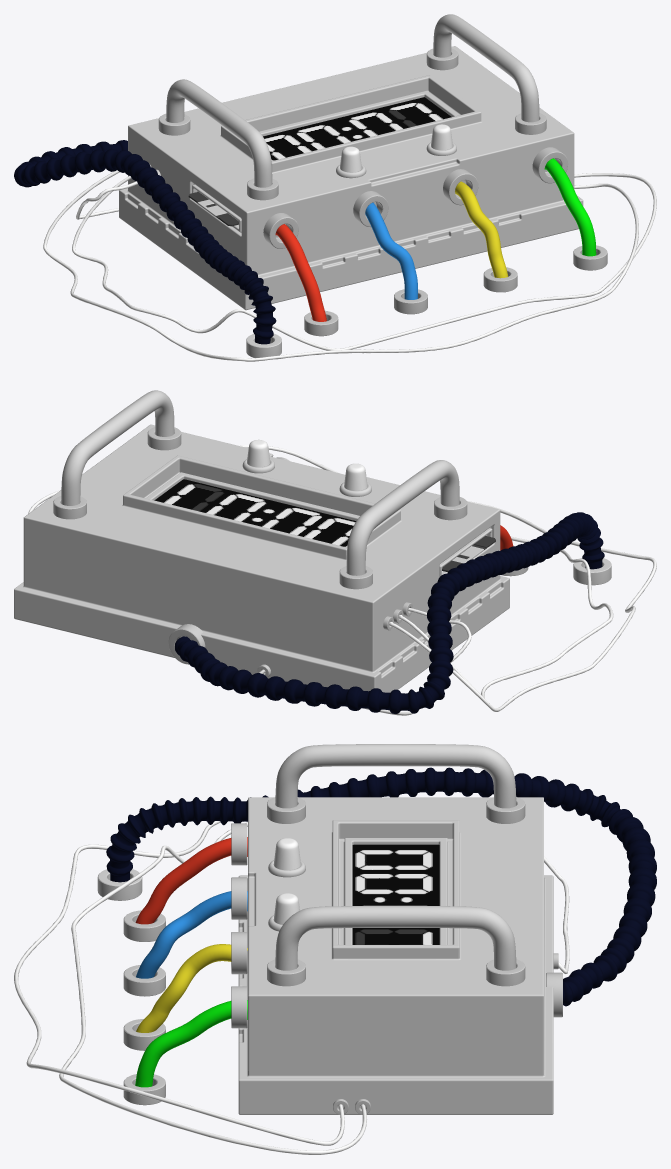
The picture shows the model from 3 angles, top to bottom: view 1: azimuth 30°, elevation 25°; view 2: azimuth 150°, elevation 25°; view 3: azimuth 270°, elevation 25°; orthographic projection. The views are drawn at different scales.
Parts seen in each view (by area): view 1: Main, Big cable, Handles, Main.002, BezierCurve.008, Small Cable, Circle.001, Circle.004, BezierCurve.003, BezierCurve.004, BezierCurve.005, Cable Front (+5 smaller); view 2: Main, Big cable, Handles, Main.002, Small Cable, BezierCurve.008, Holder, Circle.005, Siren, Circle.003, Circle.006, Main.001 (+1 smaller); view 3: Main, Big cable, Handles, Main.002, BezierCurve.008, Circle.004, Small Cable, Circle.001, BezierCurve.005, BezierCurve.003, BezierCurve.004, Cable Front (+4 smaller).
Part boxes in pixels (x1,y1,x2,y2): Main: (119,46,583,310); Big cable: (14,140,276,344); Handles: (166,14,539,187); Main.002: (263,97,451,160); BezierCurve.008: (72,173,656,350); Small Cable: (43,170,638,361); Circle.001: (263,147,567,248); Circle.004: (304,245,607,336); BezierCurve.003: (365,202,417,299); BezierCurve.004: (455,181,508,278); BezierCurve.005: (544,158,596,256); Cable Front: (275,224,326,321); Main: (14,424,509,692); Big cable: (175,512,604,713); Handles: (61,390,459,575); Main.002: (154,479,356,546); Small Cable: (239,445,656,711); BezierCurve.008: (28,490,613,715); Holder: (147,427,467,520); Circle.005: (53,496,372,589); Siren: (247,439,367,490); Circle.003: (573,558,611,585); Circle.006: (168,624,205,664); Main.001: (442,536,495,572); Main: (238,797,553,1114); Big cable: (106,767,656,1006); Handles: (275,744,516,970); Main.002: (352,844,439,944); BezierCurve.008: (59,822,569,1154); Circle.004: (123,910,165,1105); Small Cable: (14,821,344,1145); Circle.001: (231,823,247,1028); BezierCurve.005: (135,1000,247,1087); BezierCurve.003: (136,891,247,978); BezierCurve.004: (136,944,247,1032); Cable Front: (135,837,247,924).
Size of the model in its own units: 5.31 by 1.4 by 4.34.
12 materials, 1 textured.
